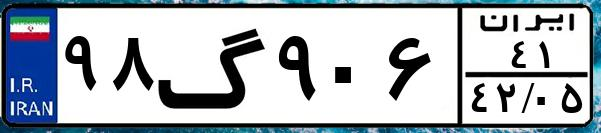0: (330, 28, 385, 110), (535, 70, 560, 125)
1: (537, 27, 568, 80)
2: (495, 70, 520, 125)
4: (508, 27, 537, 80), (470, 70, 495, 125)
5: (560, 70, 590, 125)
6: (385, 28, 445, 110)
8: (110, 28, 156, 98)
9: (270, 28, 330, 110), (57, 26, 110, 100)
گ: (156, 12, 270, 120)
